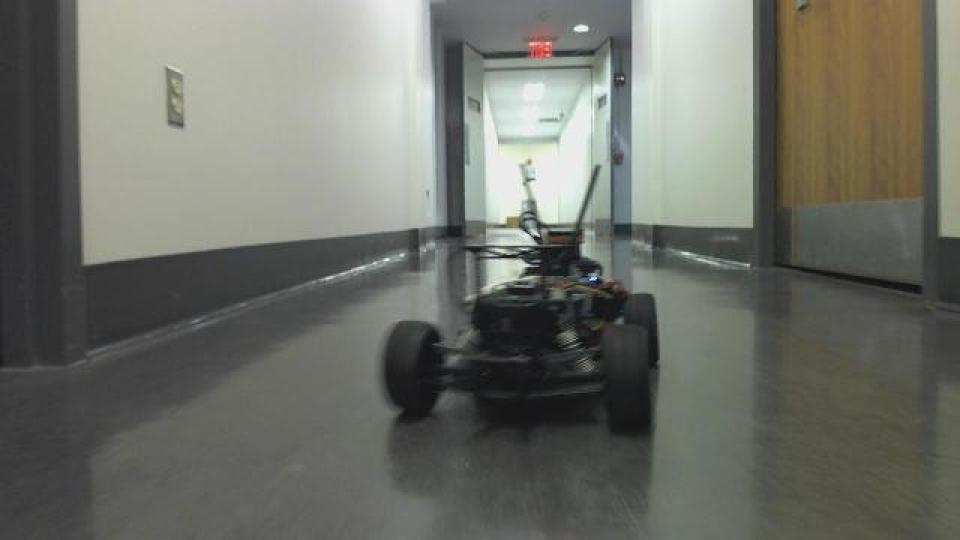car: (378, 158, 662, 434)
